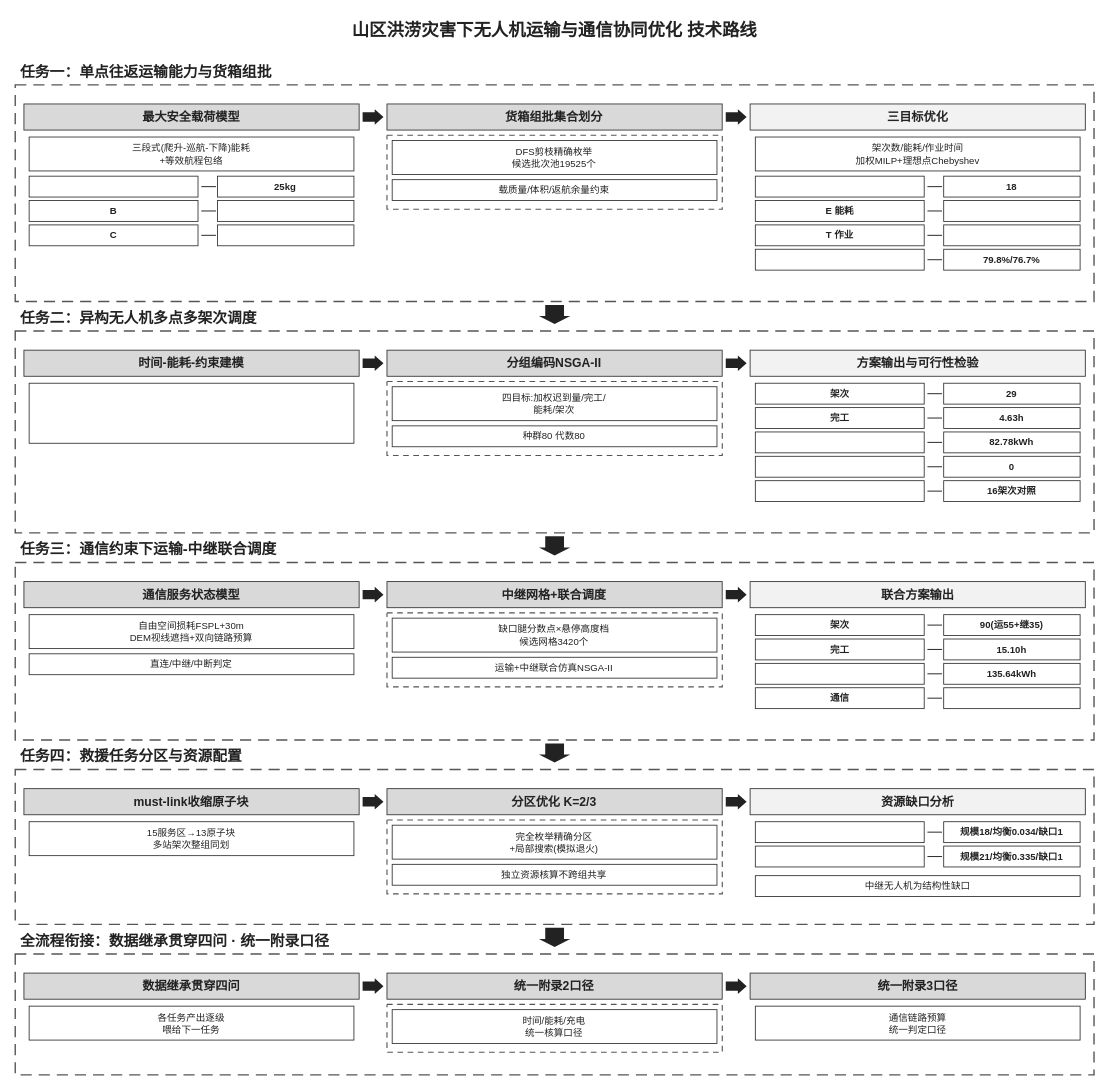
Some shapes in this 1110 by 1090 pixel diagram are drawn without their labels. The shapes that lost their labels are listed below. From the top down, each one's box as (x1, y1, x2, y2) in pixels, then its label:
(28, 175, 198, 197): A 质量受限
(754, 175, 924, 197): N 架次
(217, 200, 354, 221): 28.9~30kg
(943, 200, 1080, 221): 59.07kWh
(217, 224, 354, 246): 59.1~80kg
(943, 224, 1080, 246): 9.11h
(754, 248, 924, 270): 利用率
(28, 382, 354, 443): 载质量/体积/返航余量 机队8架/共享电池 两阶段充电 医疗与首批时限
(754, 431, 924, 453): 能耗
(754, 455, 924, 477): 违反
(754, 480, 924, 502): 贪心基线
(754, 663, 924, 684): 总能耗
(943, 687, 1080, 709): 直连20/中继35/缺口0
(754, 821, 924, 843): K=2
(754, 845, 924, 867): K=3
